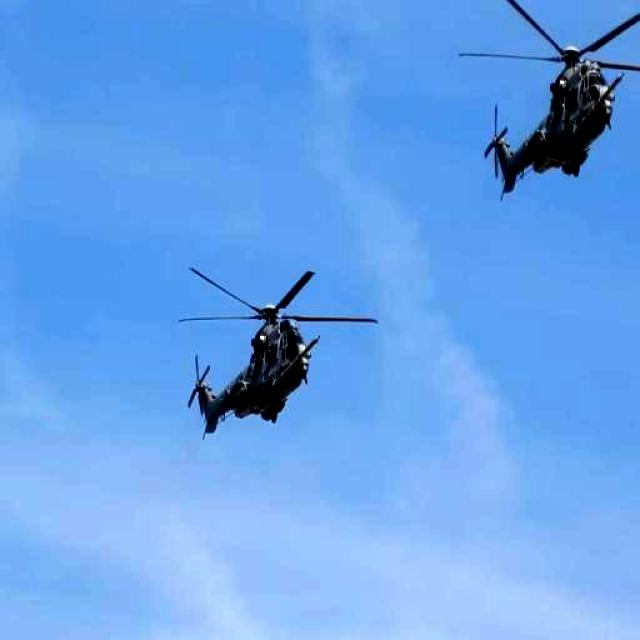drone: (472, 0, 640, 210), (185, 246, 346, 452)
